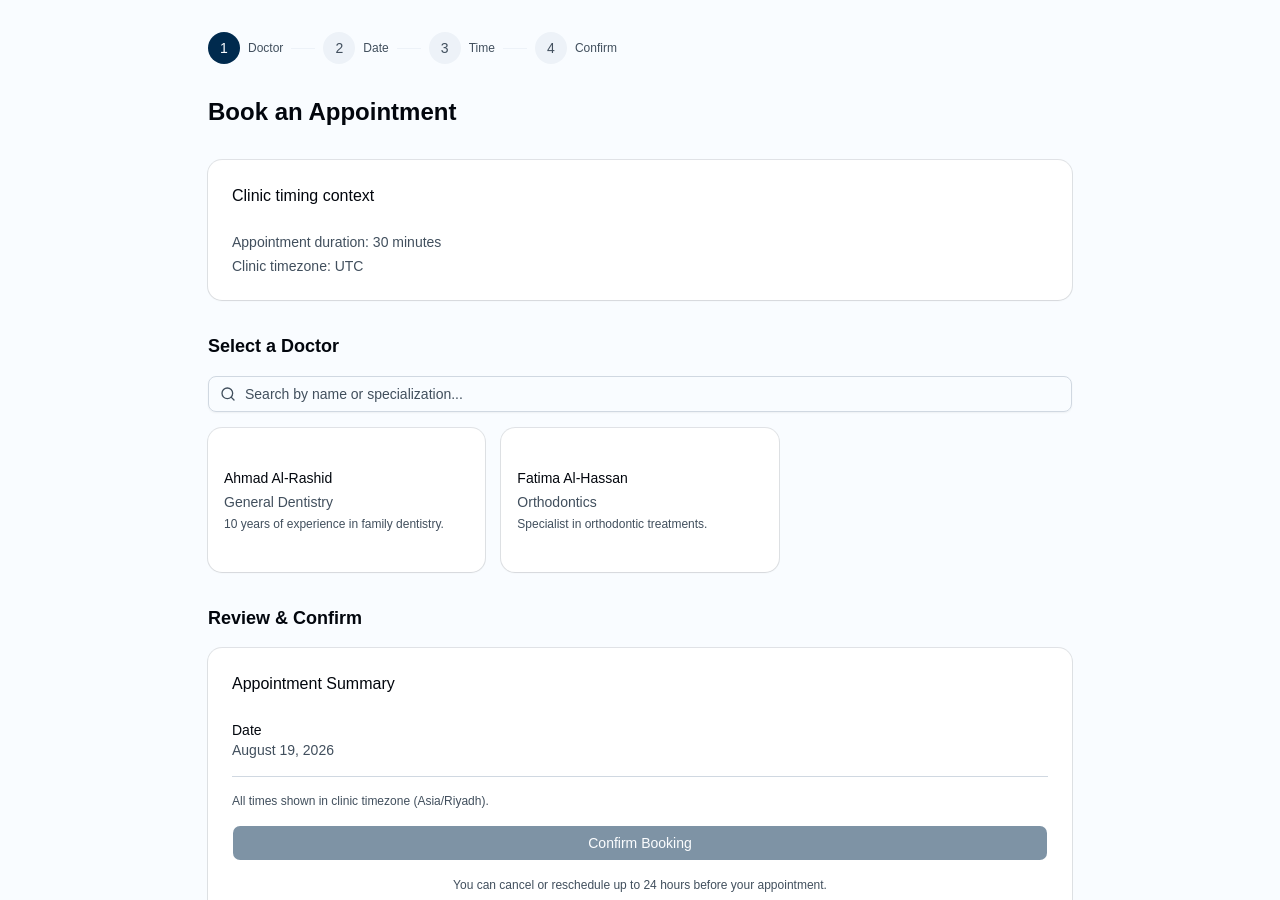
Test: BookingPage appointment creation specifications › renders reserved slots with a waitlist link and no selection button
Step 1. Click the option that starts with "Ahmad" → click(246, 478), box [208,428,485,572]
(page scrolled)
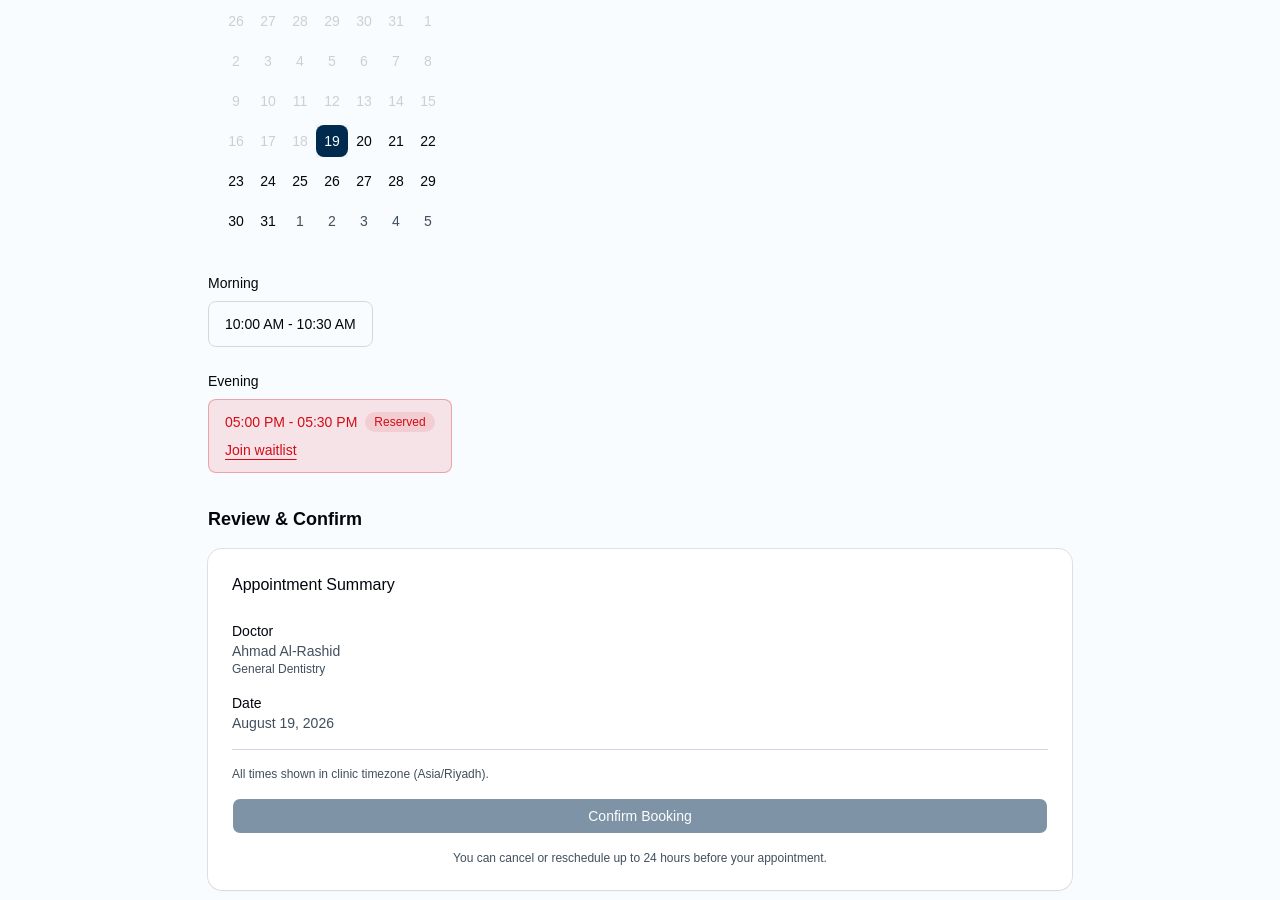
expect the text "Reserved" is shown: met, box [365,412,435,432]
expect the link "Join waitlist" is shown: met, box [225,440,297,460]
